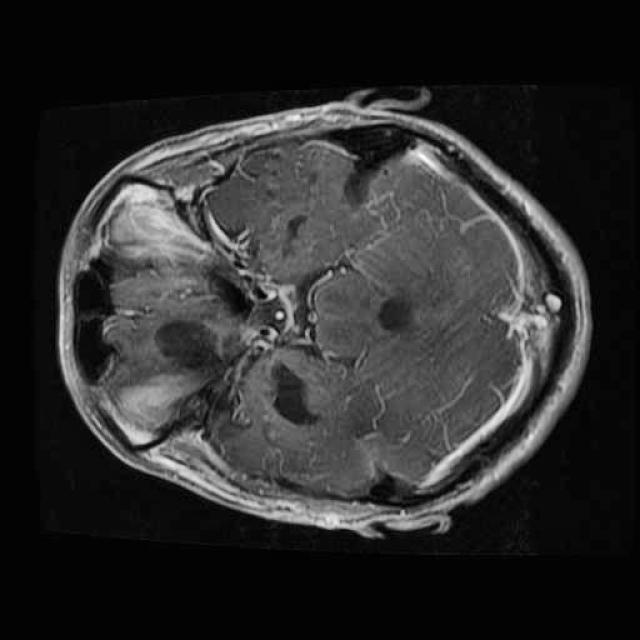Tumor: (146, 305, 238, 387)
